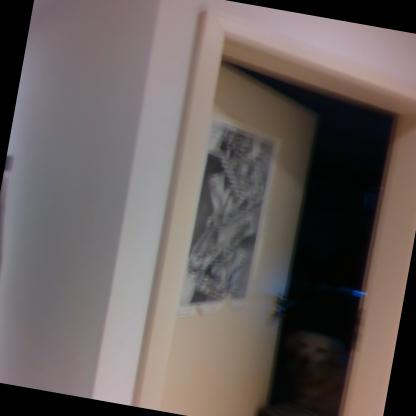semi: (125, 37, 415, 415)
